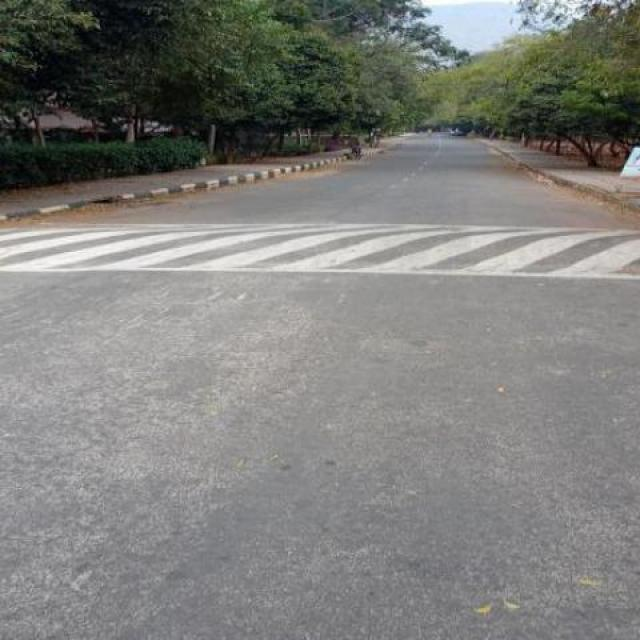Speed Bump: (1, 222, 639, 282)
